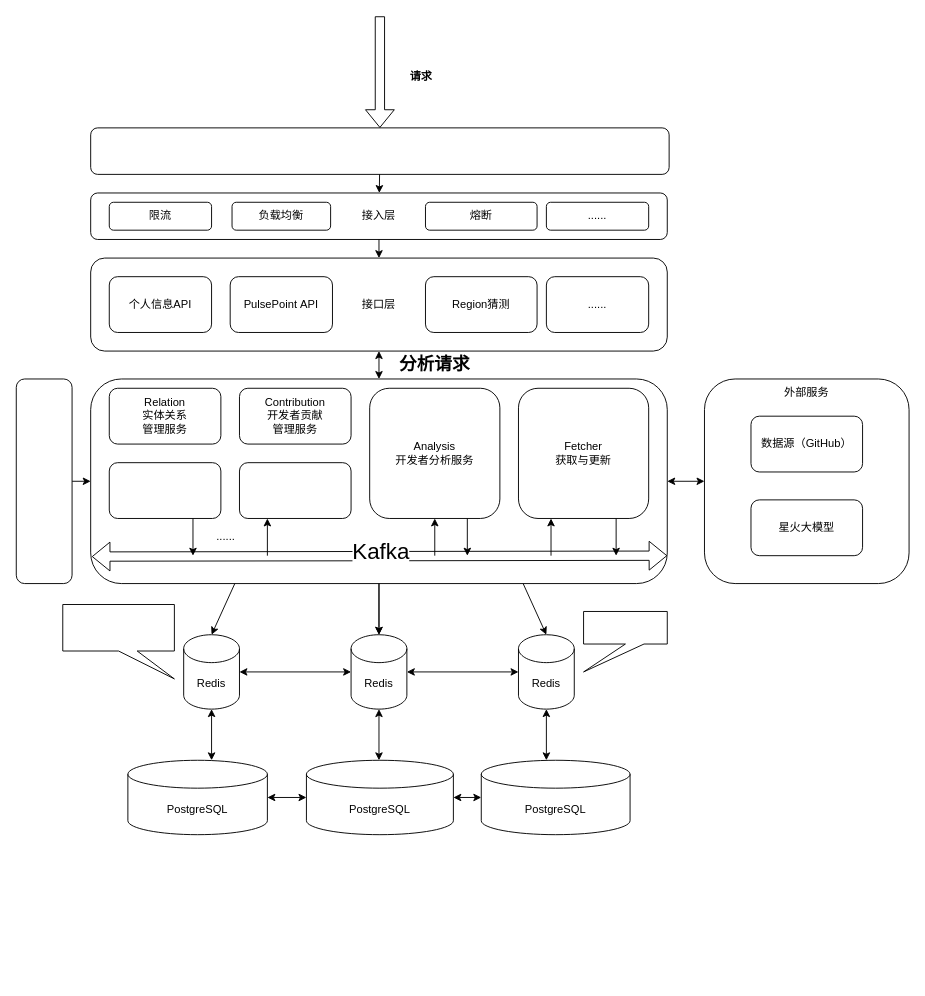
Some shapes in this 925 by 996 pixel diagram are drawn without their labels. The centre of each missing label's shape, as x and y in pixels:
Asynq!: point (625, 641)
Developer 开发者信息 管理服务: point (164, 490)
Nginx: point (379, 150)
Rank!: point (118, 641)
Repo 仓库信息 管理服务: point (295, 490)
服务发现 集群观测 Consul Jaeger ...: point (43, 481)
